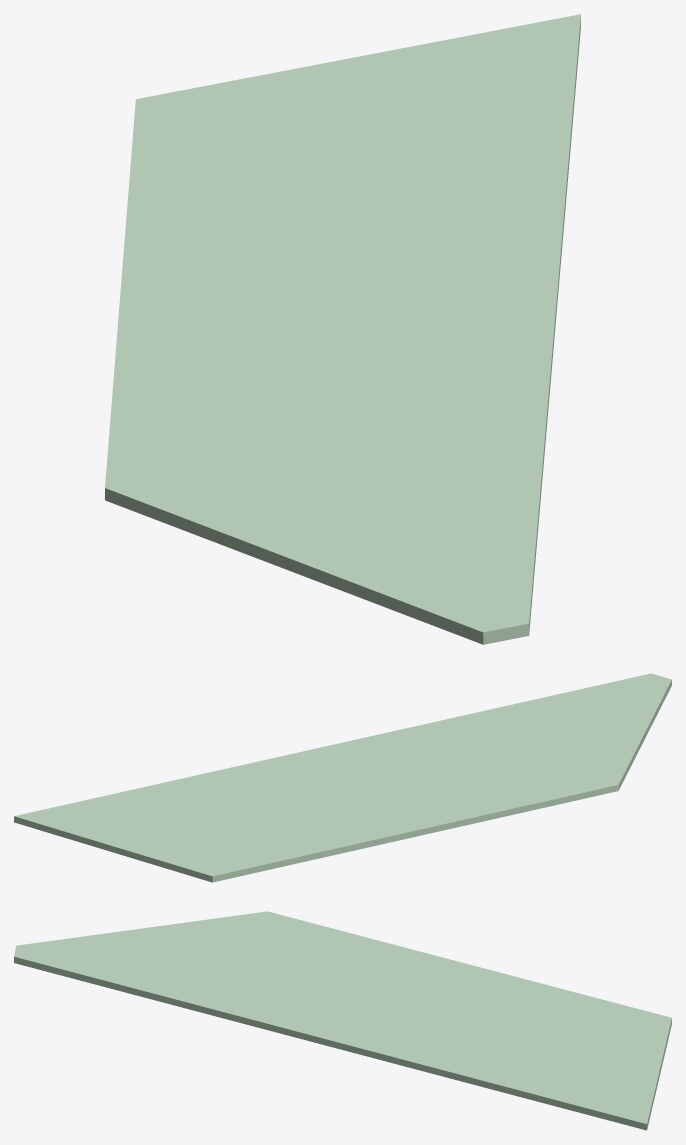
Rendered from green_areas_v2-83663998dff4.glb.
The picture shows the model from 3 angles, top to bottom: view 1: azimuth 30°, elevation 25°; view 2: azimuth 150°, elevation 25°; view 3: azimuth 270°, elevation 25°; orthographic projection. The views are drawn at different scales.
Visible parts, largest first — view 1: mesh; view 2: mesh; view 3: mesh.
Boxes of the visible parts, x1=… form: mesh: x1=105, y1=14, x2=580, y2=644; mesh: x1=14, y1=673, x2=671, y2=882; mesh: x1=14, y1=911, x2=671, y2=1130.
Bounding box in the file's own units: 224 × 3.14 × 292.
